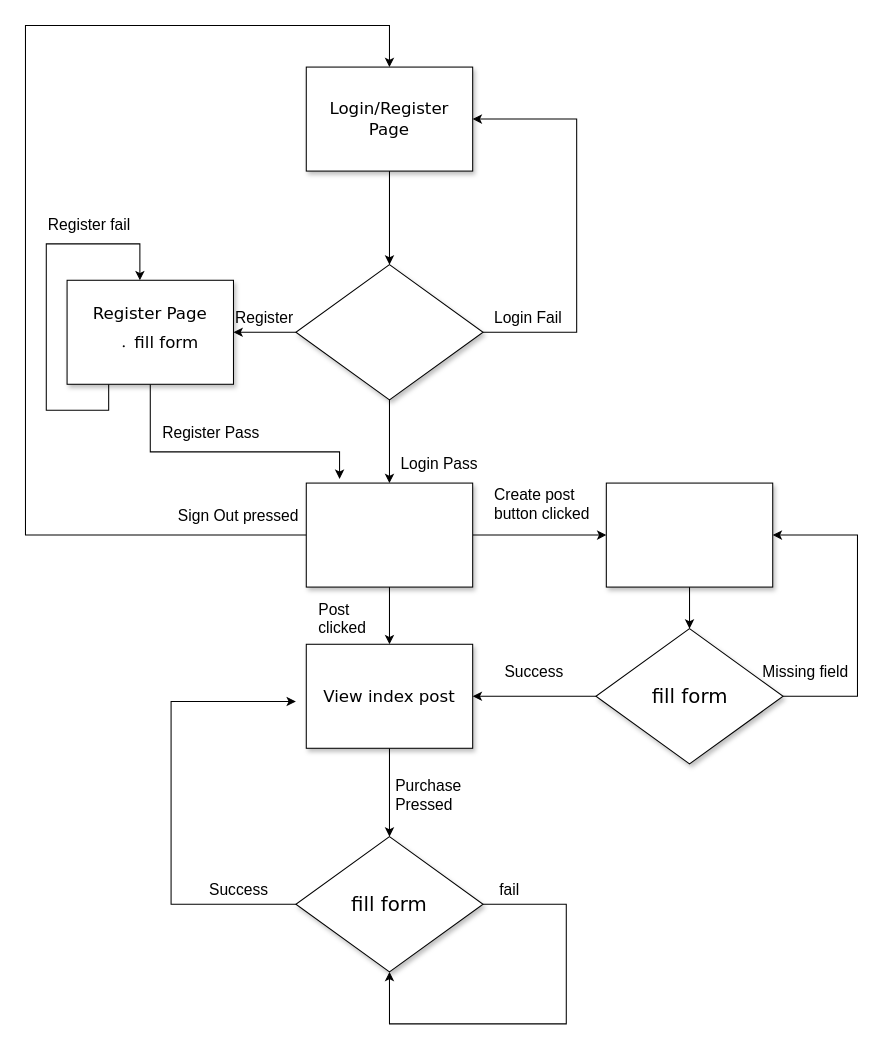
Image size: 884x1050. Some labels were removed from this diagram. The centre of each missing label's shape, as x and y in pixels:
"Create post page" belongs at [690,536].
"listing page List all posts" belongs at [390,536].
"login/register" belongs at [390,333].
